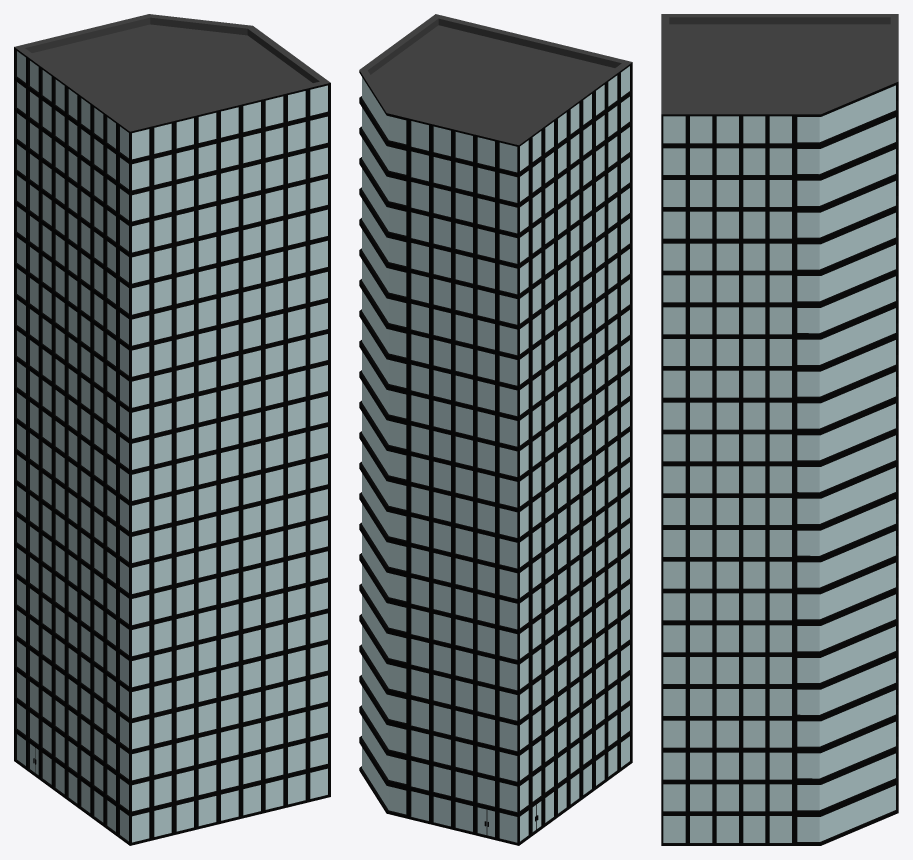
The model's file is Building3.glb.
3 renders of one model, left to right at view 1: azimuth 30°, elevation 25°; view 2: azimuth 150°, elevation 25°; view 3: azimuth 270°, elevation 25°, orthographic. The views are drawn at different scales.
Parts seen in each view (by area): view 1: Cube.002; view 2: Cube.002; view 3: Cube.002.
Boxes of the visible parts, left/top/right/bottom form: Cube.002: left=14, top=14, right=330, bottom=845; Cube.002: left=359, top=14, right=632, bottom=845; Cube.002: left=661, top=14, right=898, bottom=845.
Bounding box in the file's own units: 4 × 13.59 × 4.
